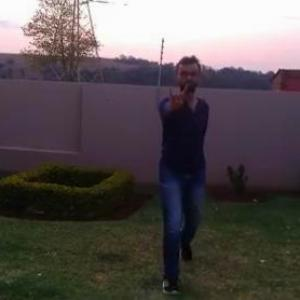takeoff-hand: (160, 78, 193, 117)
